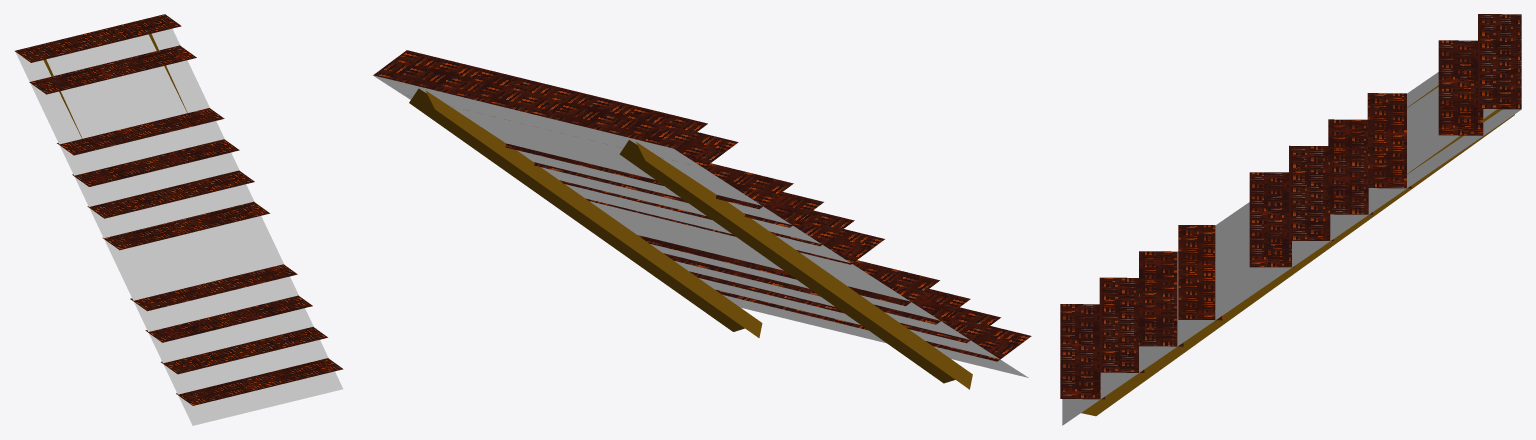
The model's file is TreppeBretter [BraunesLinoleum]_2125.glb.
The picture shows the model from 3 angles, left to right: view 1: azimuth 30°, elevation 25°; view 2: azimuth 150°, elevation 25°; view 3: azimuth 270°, elevation 25°; orthographic projection. The views are drawn at different scales.
Visible parts, largest first — view 1: pPlaneShape19, pPlaneShape17, pPlaneShape16, pPlaneShape18; view 2: pPlaneShape19, pPlaneShape18, pCylinderShape1, pCylinderShape2, pPlaneShape16, pPlaneShape17; view 3: pPlaneShape17, pPlaneShape16, pPlaneShape19, pPlaneShape18, pCylinderShape1.
Part boxes in pixels (box(x1,y1,x2,y2)): pPlaneShape19: box(15, 14, 342, 425); pPlaneShape17: box(57, 108, 269, 250); pPlaneShape16: box(130, 264, 343, 405); pPlaneShape18: box(15, 14, 196, 94); pPlaneShape19: box(372, 75, 1028, 377); pPlaneShape18: box(373, 50, 738, 167); pCylinderShape1: box(409, 88, 762, 337); pCylinderShape2: box(619, 140, 972, 389); pPlaneShape16: box(637, 235, 1031, 361); pPlaneShape17: box(505, 143, 884, 264); pPlaneShape17: box(1249, 93, 1412, 267); pPlaneShape16: box(1060, 225, 1222, 399); pPlaneShape19: box(1062, 72, 1521, 425); pPlaneShape18: box(1438, 14, 1521, 135); pCylinderShape1: box(1081, 109, 1514, 416).
Size of the model in its own units: 0.2509 by 0.3891 by 0.5132.
Materials: 6 (3 with a texture image).
